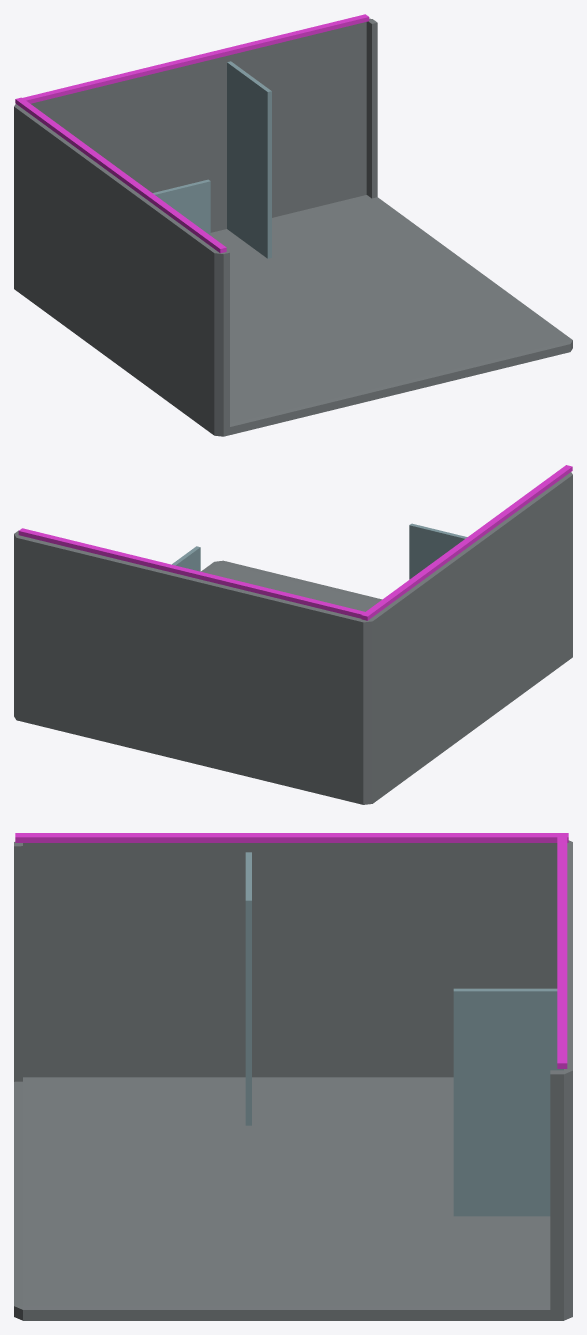
File: CubiclesType1.fbx
3 renders of one model, top to bottom at view 1: azimuth 30°, elevation 25°; view 2: azimuth 150°, elevation 25°; view 3: azimuth 270°, elevation 25°, orthographic. The views are drawn at different scales.
Visible parts, largest first — view 1: Cube, Cube.002, Cube.003, Cube.004, Cube.001; view 2: Cube, Cube.003, Cube.004, Cube.001, Cube.002; view 3: Cube, Cube.002, Cube.004, Cube.003, Cube.001.
Boxes of the visible parts, bbox=[...] form: Cube: bbox=[14, 18, 572, 436]; Cube.002: bbox=[227, 61, 271, 258]; Cube.003: bbox=[23, 14, 369, 103]; Cube.004: bbox=[15, 97, 226, 253]; Cube.001: bbox=[153, 179, 210, 235]; Cube: bbox=[14, 472, 572, 804]; Cube.003: bbox=[18, 528, 364, 618]; Cube.004: bbox=[361, 465, 572, 620]; Cube.001: bbox=[409, 523, 467, 579]; Cube.002: bbox=[172, 546, 200, 571]; Cube: bbox=[14, 840, 572, 1320]; Cube.002: bbox=[453, 988, 563, 1216]; Cube.004: bbox=[15, 833, 568, 842]; Cube.003: bbox=[557, 837, 567, 1068]; Cube.001: bbox=[245, 852, 251, 1125].
Size of the model in its own units: 794 by 398 by 794.
